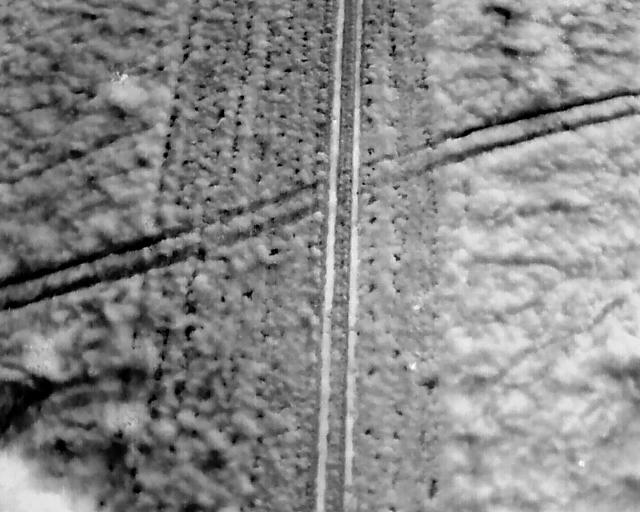car: (361, 500, 387, 511)
